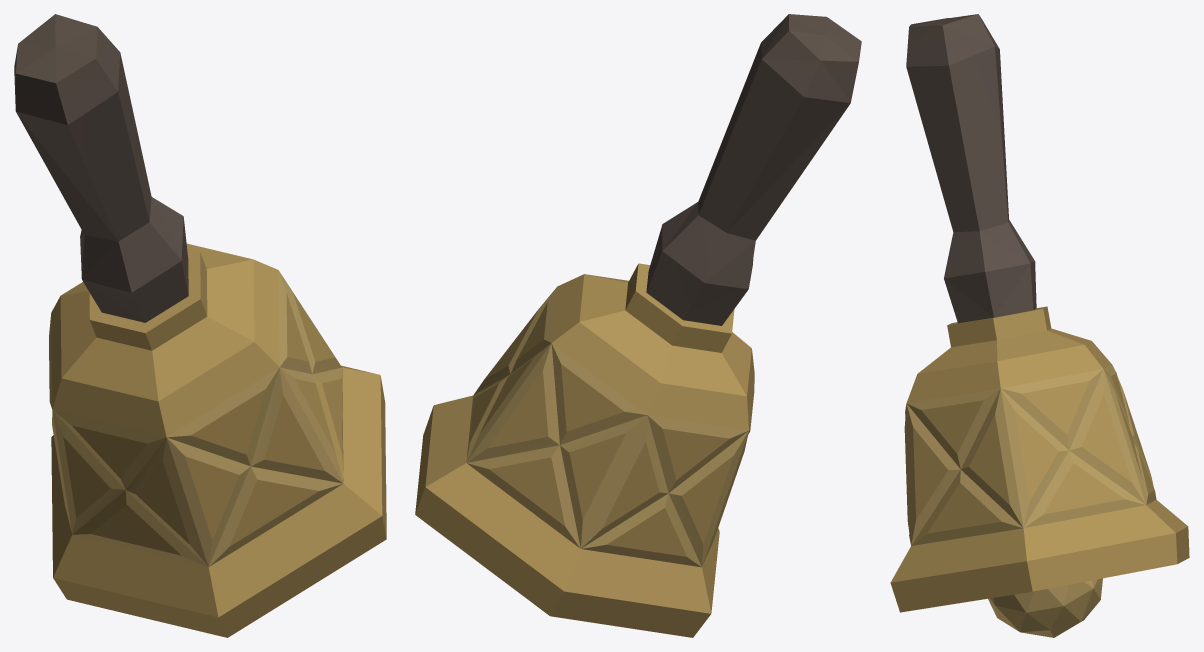
Rendered from trinketHorn2.fbx.
3 views of the same model, side by side, from view 1: azimuth 30°, elevation 25°; view 2: azimuth 150°, elevation 25°; view 3: azimuth 270°, elevation 25° (orthographic). The views are drawn at different scales.
Visible parts, largest first — view 1: trinketHorn2; view 2: trinketHorn2; view 3: trinketHorn2.
Boxes of the visible parts, x1,y1,x2,y2 form: trinketHorn2: (14, 14, 386, 637); trinketHorn2: (415, 14, 861, 637); trinketHorn2: (890, 14, 1189, 637).
Size of the model in its own units: 1.13 by 1.64 by 0.8206.
1 material, 1 textured.
